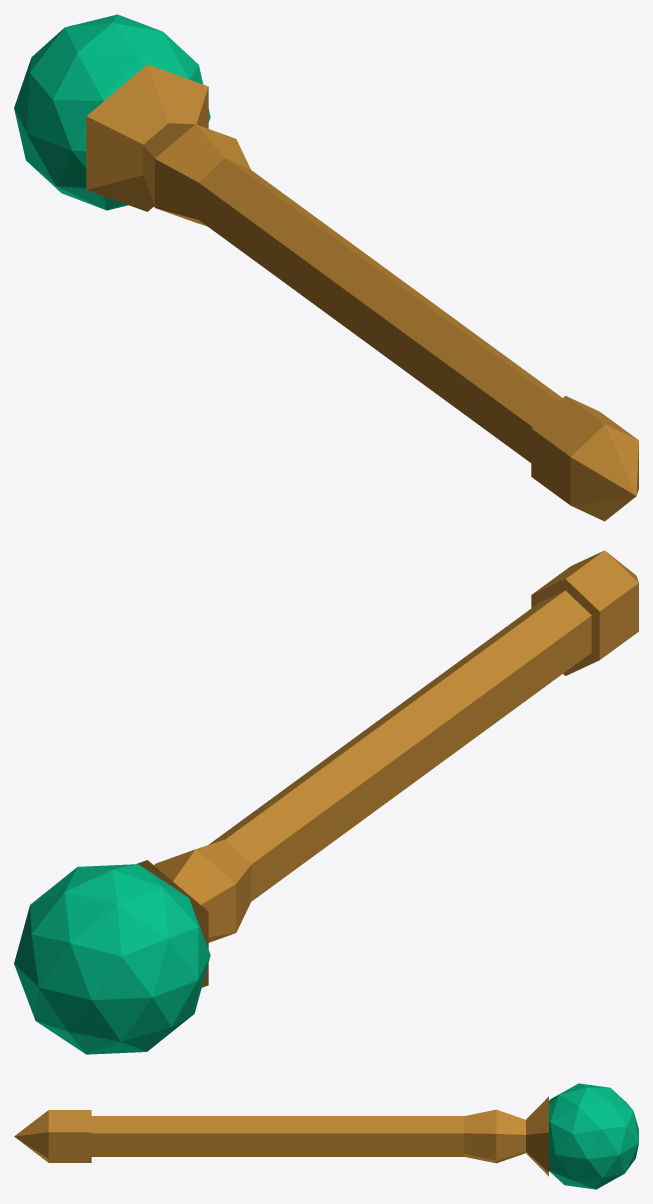
Rendered from Staff.fbx.
3 views of the same model, one above another, from view 1: azimuth 30°, elevation 25°; view 2: azimuth 150°, elevation 25°; view 3: azimuth 270°, elevation 25° (orthographic). The views are drawn at different scales.
Visible parts, largest first — view 1: Staff; view 2: Staff; view 3: Staff.
Part boxes in pixels (x1,y1,x2,y2): Staff: (14,14,638,521); Staff: (14,550,638,1054); Staff: (14,1083,638,1189).
Bounding box in the file's own units: 0.1456 × 0.1456 × 0.8414.
